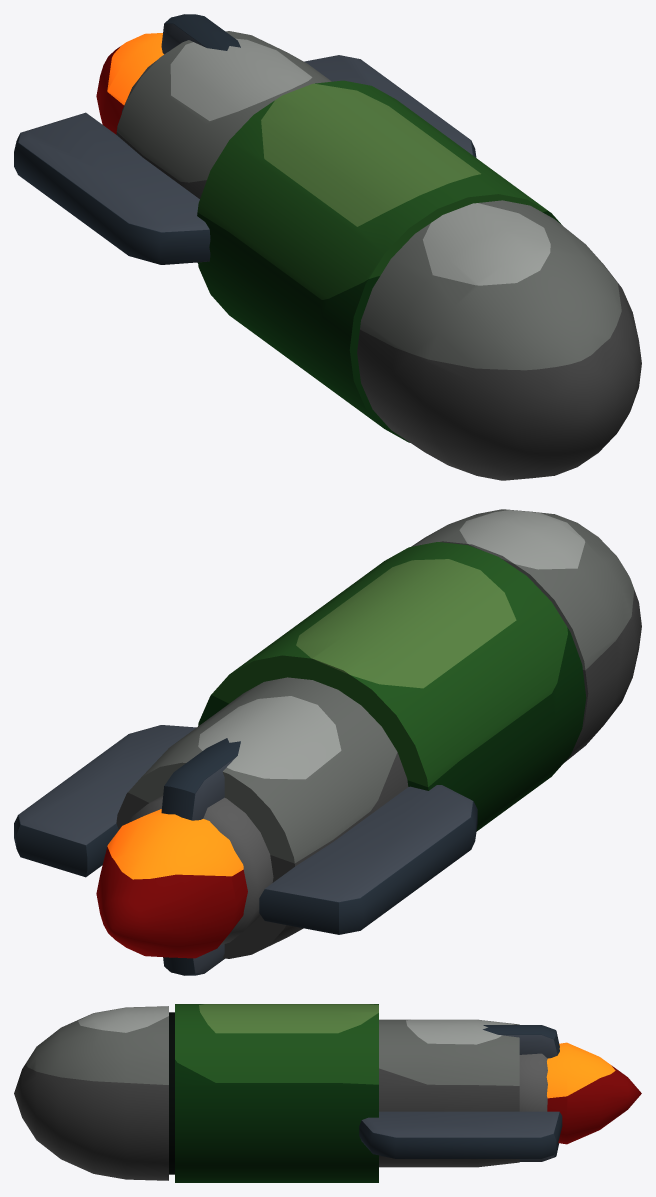
Rendered from slot_rocket_green_133.glb.
3 views of the same model, one above another, from view 1: azimuth 30°, elevation 25°; view 2: azimuth 150°, elevation 25°; view 3: azimuth 270°, elevation 25° (orthographic). The views are drawn at different scales.
Visible parts, largest first — view 1: slot_rocket_green_133; view 2: slot_rocket_green_133; view 3: slot_rocket_green_133.
Boxes of the visible parts, left/top/right/bottom form: slot_rocket_green_133: left=14, top=14, right=641, bottom=480; slot_rocket_green_133: left=14, top=509, right=641, bottom=975; slot_rocket_green_133: left=14, top=1004, right=641, bottom=1182.
Size of the model in its own units: 6.5 by 4.4 by 15.4.
